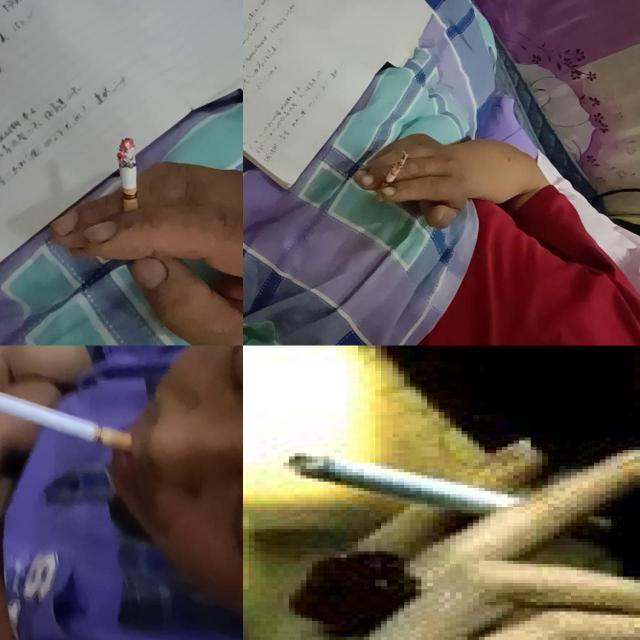cigarette: (284, 450, 614, 536), (0, 388, 135, 456), (117, 137, 140, 221), (376, 152, 410, 202)
